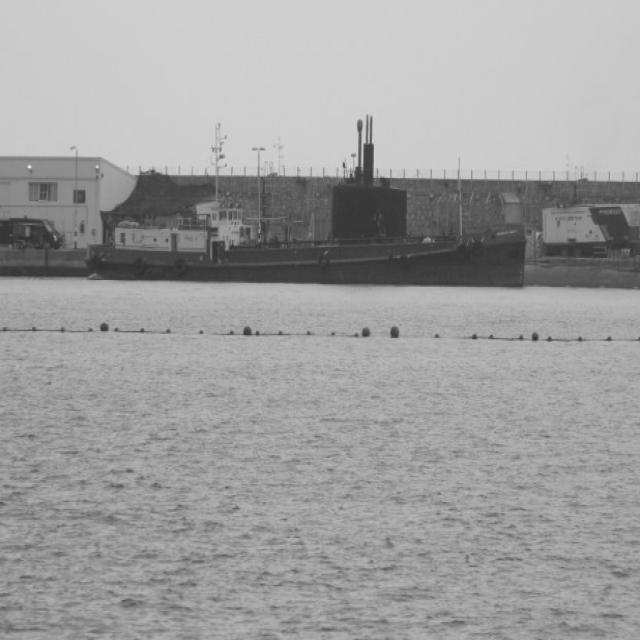submarine: (323, 106, 412, 242)
